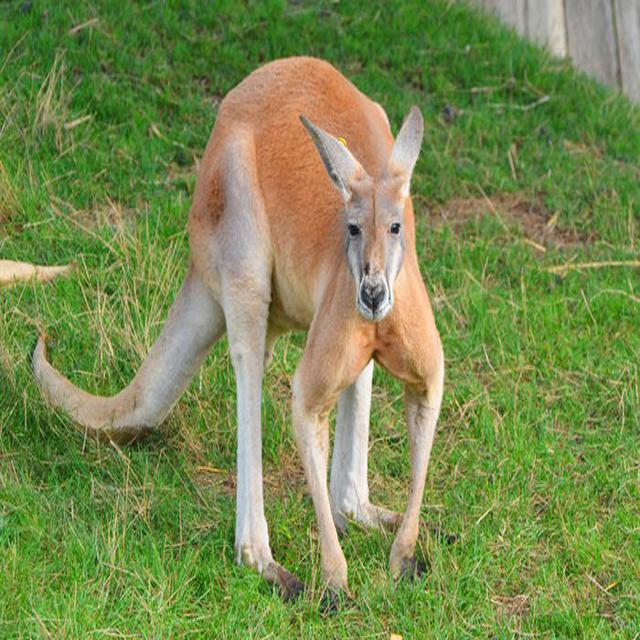kangaroo: (172, 55, 464, 595)
